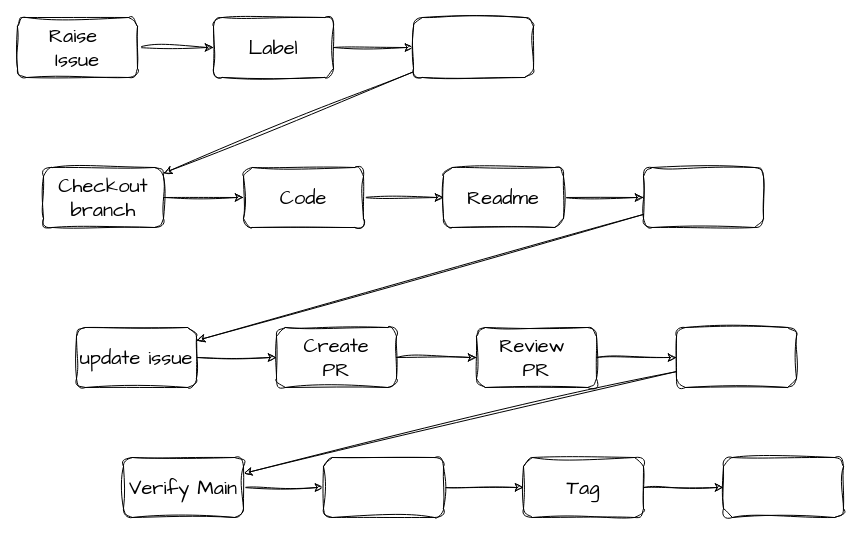
Image size: 861x535. Some labels were removed from this diagram. The shapes that lost their labels are listed below. From the top down, each one's centre as x and y in pixels, then its label:
At [473,47]: "Create branch".
At [703,197]: "Commit".
At [736,357]: "Merge to main".
At [383,487]: "Verify closed issue".
At [783,487]: "Delete Branch".
